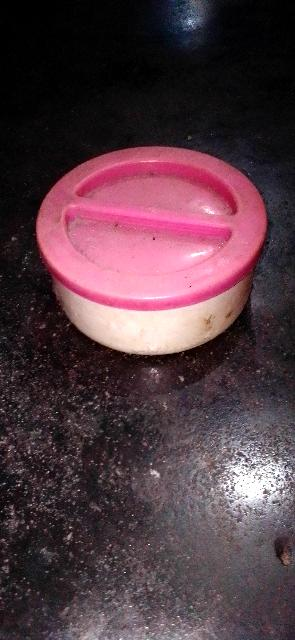hardplastic: (54, 152, 260, 352)
